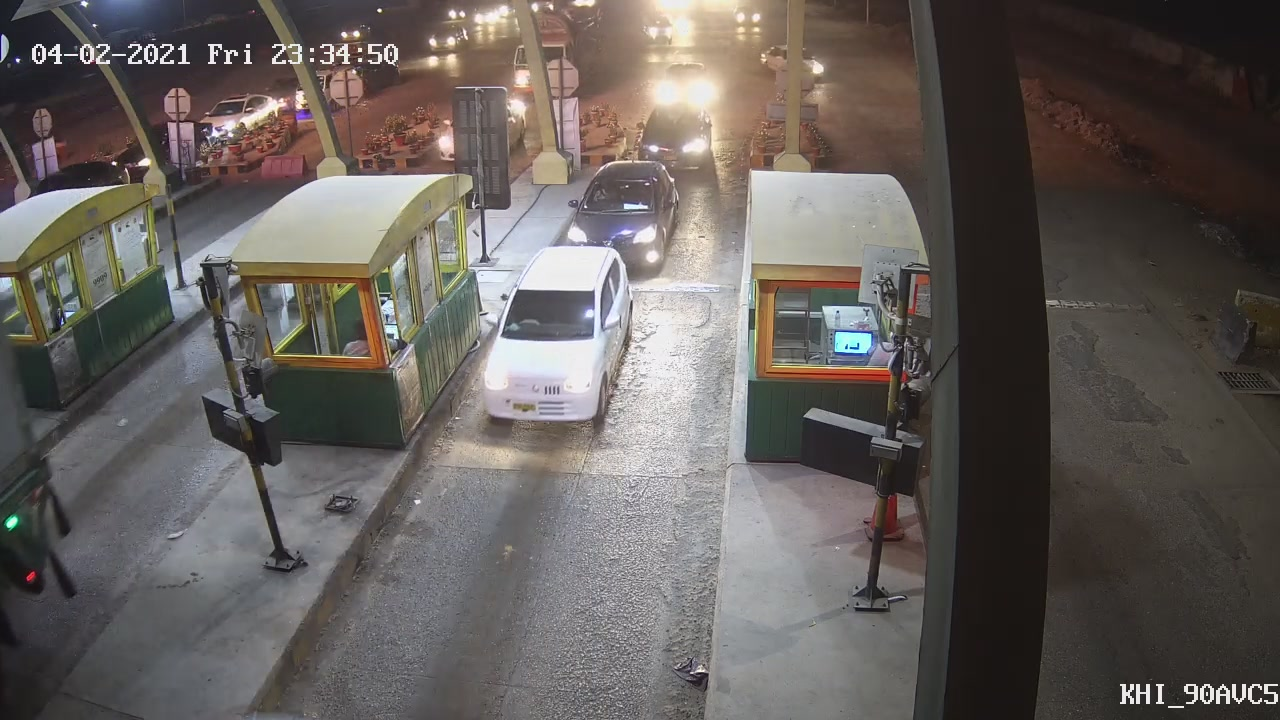F1: (480, 240, 636, 435)
